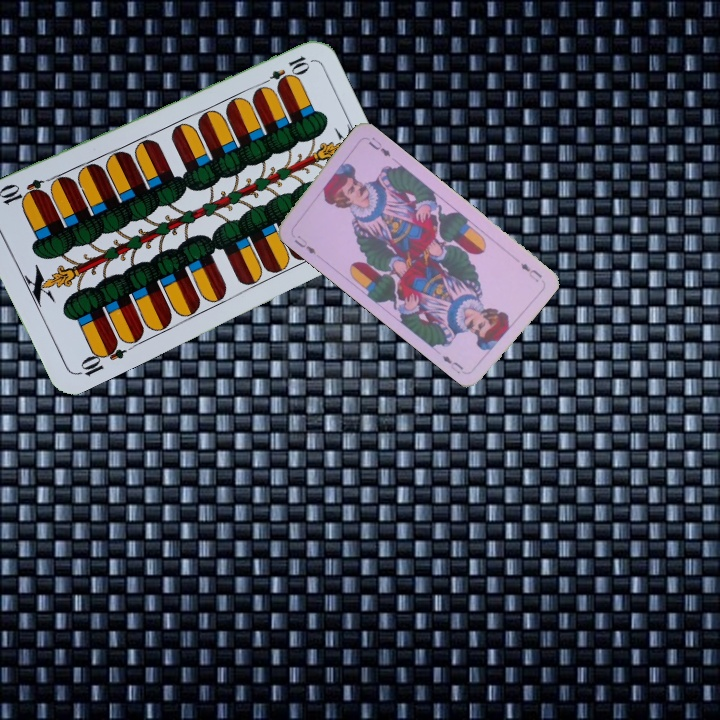E10: (73, 336, 128, 379), (256, 52, 312, 90)
EU: (290, 231, 318, 257), (516, 259, 544, 285)
